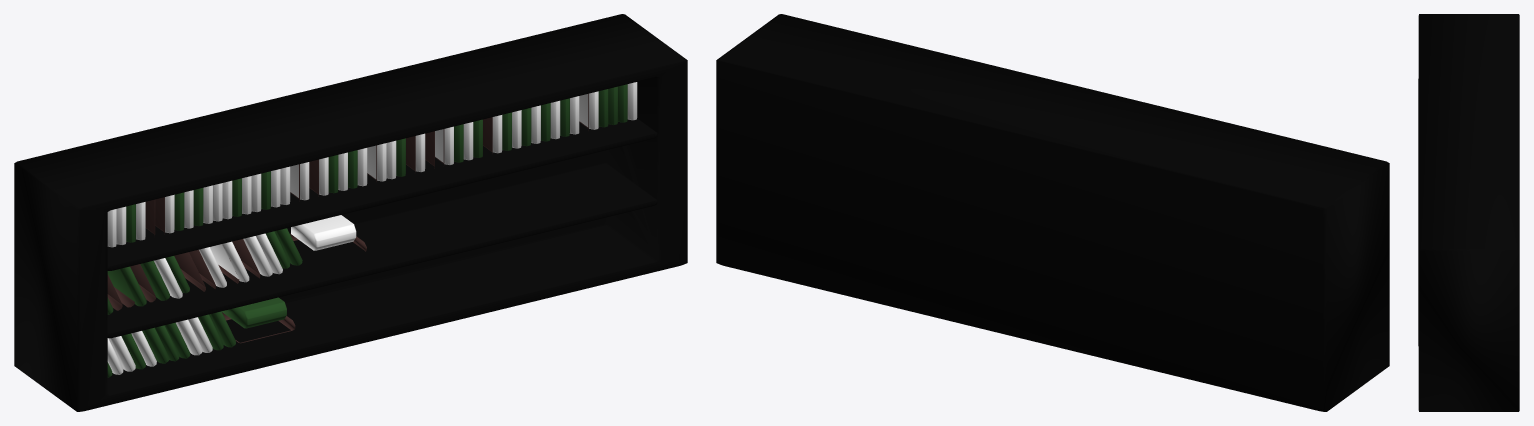
Rendered from Bookshelf.glb.
The picture shows the model from 3 angles, left to right: view 1: azimuth 30°, elevation 25°; view 2: azimuth 150°, elevation 25°; view 3: azimuth 270°, elevation 25°; orthographic projection. The views are drawn at different scales.
Parts seen in each view (by area): view 1: Bookshelf; view 2: Bookshelf; view 3: Bookshelf.
Part boxes in pixels (left/top/right/bottom): Bookshelf: left=14, top=14, right=687, bottom=411; Bookshelf: left=716, top=14, right=1389, bottom=411; Bookshelf: left=1418, top=14, right=1519, bottom=411.
Size of the model in its own units: 3.77 by 1.21 by 0.6806.
